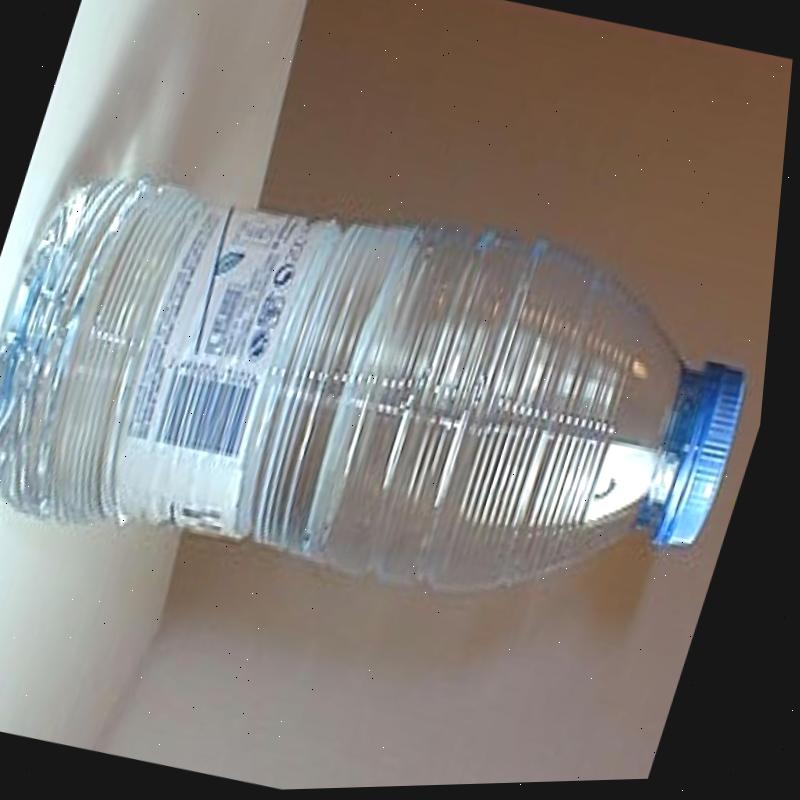botella: (0, 107, 791, 677)
